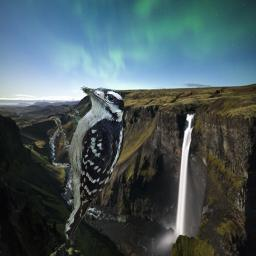Woodpecker: (49, 85, 134, 245)
